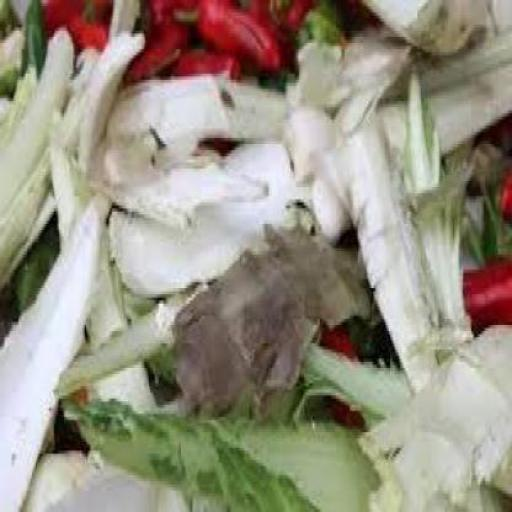biodegradable: (2, 0, 511, 510), (111, 0, 511, 293), (25, 393, 387, 508), (174, 215, 371, 414), (1, 30, 144, 286), (48, 104, 160, 408), (2, 196, 110, 509), (110, 126, 304, 294), (359, 321, 511, 510), (348, 107, 440, 393), (410, 58, 472, 359), (104, 64, 294, 162), (2, 28, 76, 214), (294, 22, 424, 122), (24, 445, 194, 509), (294, 346, 408, 429), (174, 0, 288, 78), (438, 129, 505, 227), (118, 288, 182, 384), (128, 0, 192, 86), (40, 0, 112, 55), (463, 248, 511, 322), (162, 43, 242, 83), (241, 0, 313, 43), (22, 0, 51, 92), (474, 178, 509, 254), (298, 2, 349, 50), (2, 12, 29, 98), (110, 0, 140, 41), (491, 162, 511, 220)
